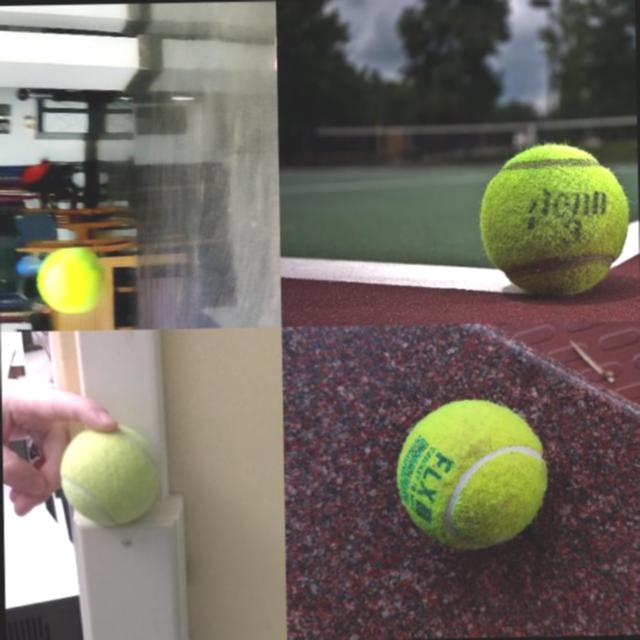Tennis Ball: (477, 140, 631, 296), (394, 398, 548, 550), (58, 422, 162, 528), (34, 247, 105, 315)
